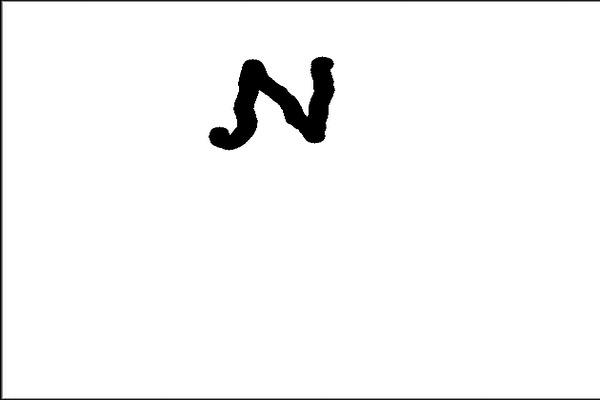N: (203, 52, 344, 151)
